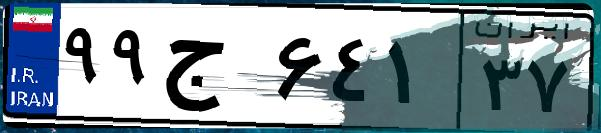1: (385, 28, 445, 110)
3: (475, 38, 525, 113)
4: (330, 28, 385, 110)
6: (270, 28, 330, 110)
7: (525, 38, 570, 115)
9: (57, 26, 110, 100), (110, 28, 158, 98)
ج: (158, 20, 270, 120)
